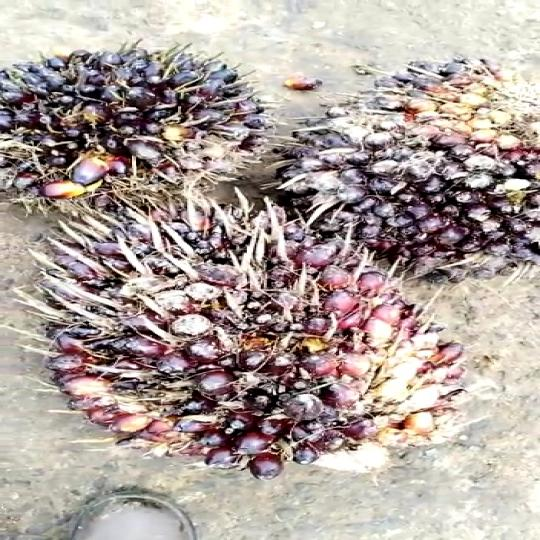kurang masak: (17, 175, 495, 486), (285, 50, 540, 289), (0, 39, 259, 228)
